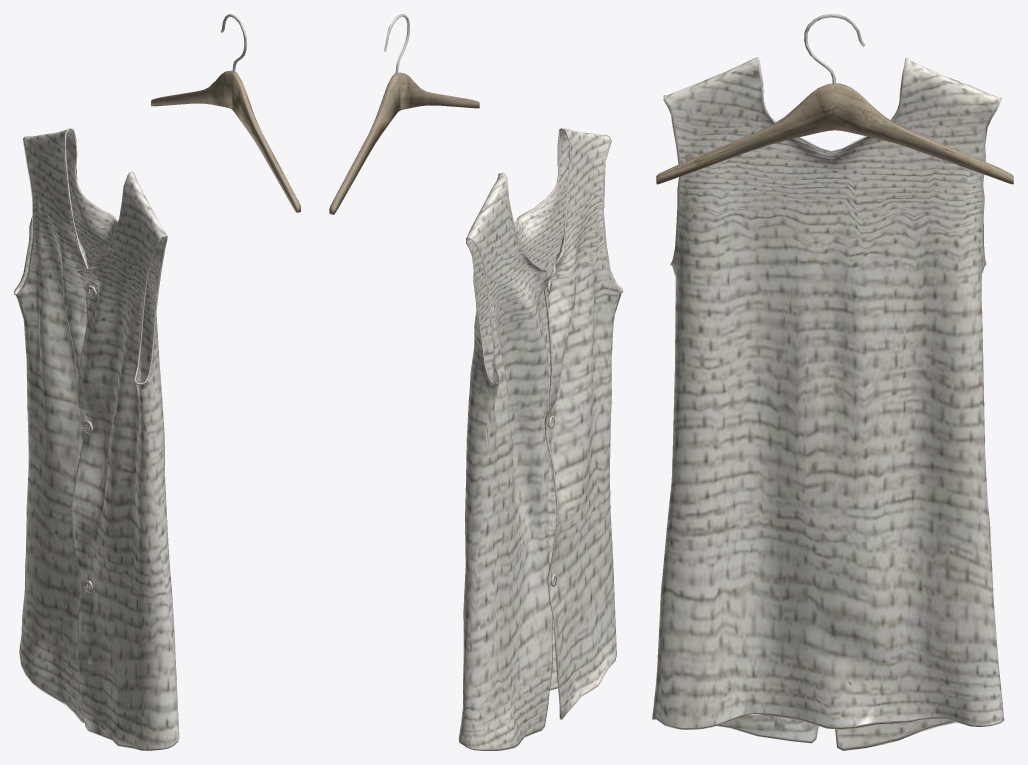
File: rod-vest02.glb
3 views of the same model, side by side, from view 1: azimuth 30°, elevation 25°; view 2: azimuth 150°, elevation 25°; view 3: azimuth 270°, elevation 25° (orthographic). The views are drawn at different scales.
Visible parts, largest first — view 1: vest02.001, Hangers_for_clothes085.001; view 2: vest02.001, Hangers_for_clothes085.001; view 3: vest02.001, Hangers_for_clothes085.001.
Part boxes in pixels (<box>): vest02.001: <box>14,128,179,750</box>; Hangers_for_clothes085.001: <box>151,14,300,212</box>; vest02.001: <box>458,128,623,750</box>; Hangers_for_clothes085.001: <box>329,14,479,214</box>; vest02.001: <box>652,57,1004,750</box>; Hangers_for_clothes085.001: <box>656,14,1013,184</box>.
Size of the model in its own units: 0.2572 by 1.01 by 0.4002.
4 materials, 3 textured.
